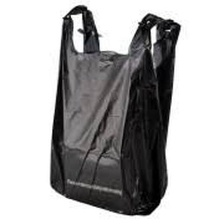plastic_bag: (44, 1, 195, 218)
